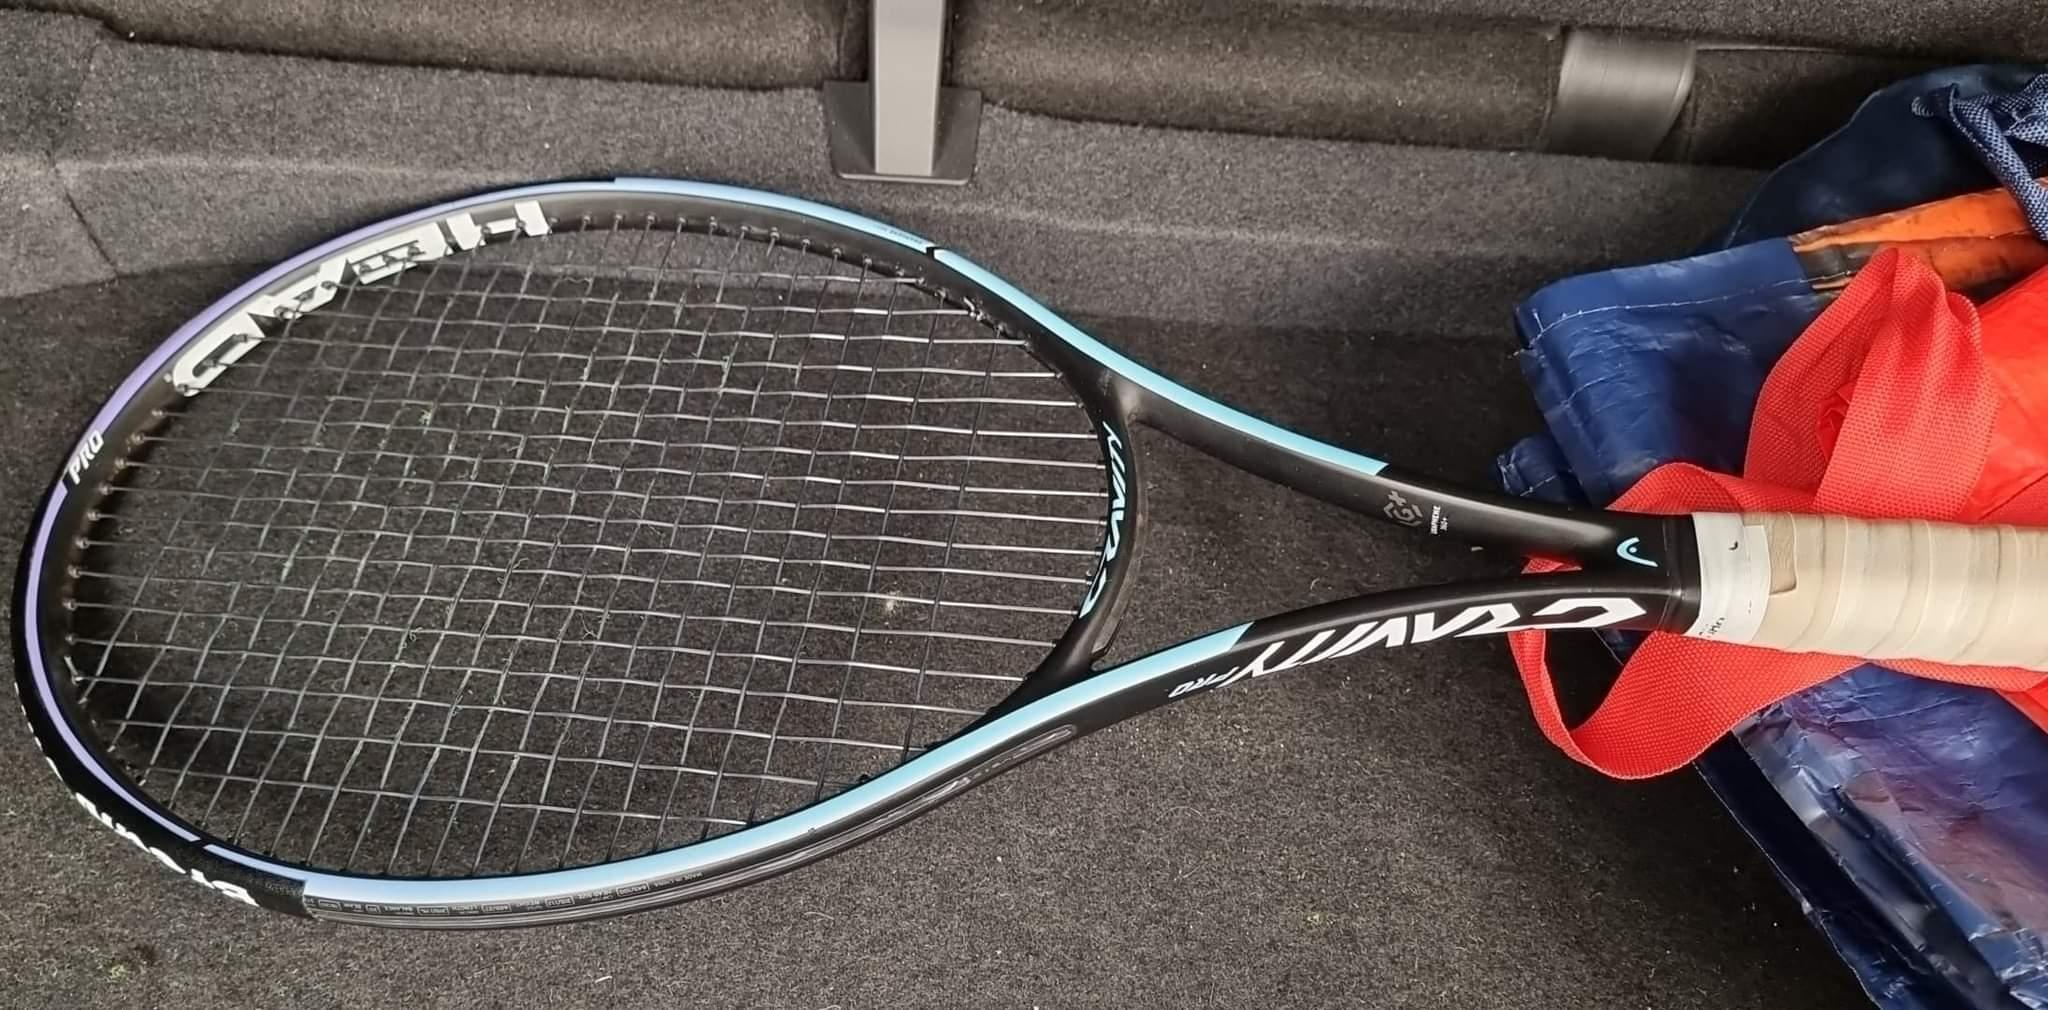Tennis-Racket: (16, 176, 2048, 926)
